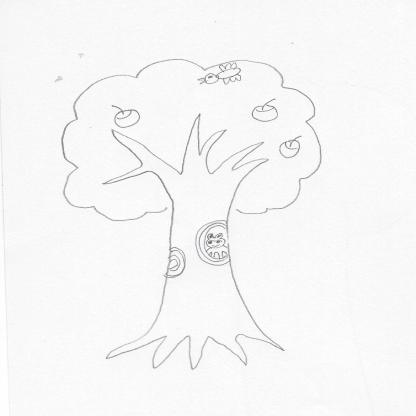apple: (107, 104, 141, 128), (249, 100, 282, 124), (275, 136, 301, 158)
bird: (198, 62, 246, 85)
branch_sharp: (105, 112, 270, 194)
crown_cloud: (52, 57, 324, 220)
knot: (161, 246, 190, 280)
root_only: (93, 322, 289, 377)
trunk_straight: (151, 217, 257, 312)
